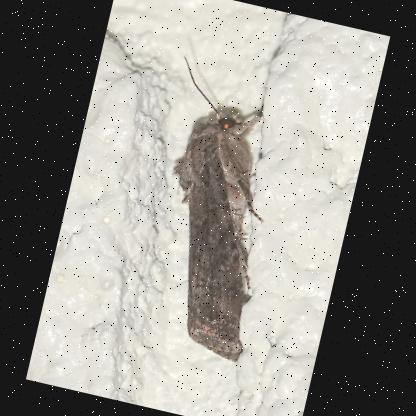Fall Armyworm Moth: (117, 51, 309, 367)
